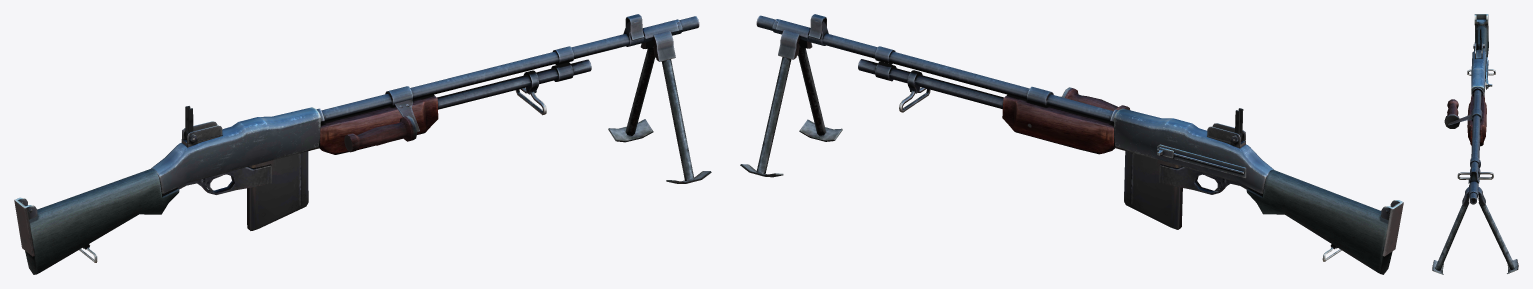
The model's file is Weapon_3001.fbx.
3 renders of one model, left to right at view 1: azimuth 30°, elevation 25°; view 2: azimuth 150°, elevation 25°; view 3: azimuth 270°, elevation 25°, orthographic. The views are drawn at different scales.
Visible parts, largest first — view 1: Weapon_3001_1, Weapon_3001_clip; view 2: Weapon_3001_1, Weapon_3001_clip; view 3: Weapon_3001_1.
Part boxes in pixels (<box>): Weapon_3001_1: <box>14,14,711,274</box>; Weapon_3001_clip: <box>247,151,308,230</box>; Weapon_3001_1: <box>740,14,1403,274</box>; Weapon_3001_clip: <box>1124,151,1182,229</box>; Weapon_3001_1: <box>1432,14,1518,274</box>.
Size of the model in its own units: 159 by 37.67 by 28.68.
